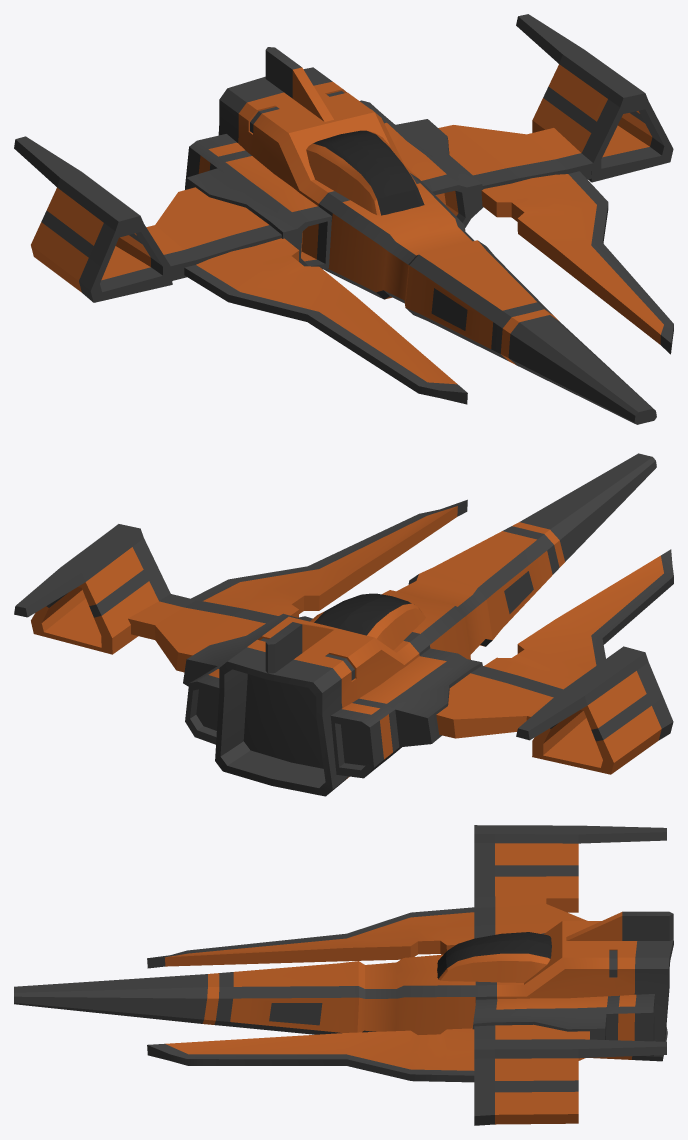
File: ship-a.glb
3 views of the same model, one above another, from view 1: azimuth 30°, elevation 25°; view 2: azimuth 150°, elevation 25°; view 3: azimuth 270°, elevation 25° (orthographic). The views are drawn at different scales.
Parts seen in each view (by area): view 1: Spaceship_RaeTheRedPanda; view 2: Spaceship_RaeTheRedPanda; view 3: Spaceship_RaeTheRedPanda.
Part boxes in pixels (bbox=[...]): Spaceship_RaeTheRedPanda: bbox=[14, 14, 673, 424]; Spaceship_RaeTheRedPanda: bbox=[14, 453, 673, 796]; Spaceship_RaeTheRedPanda: bbox=[14, 825, 673, 1125].
Bounding box in the file's own units: 9.95 × 2.35 × 11.17.
Materials: 1 (1 with a texture image).
